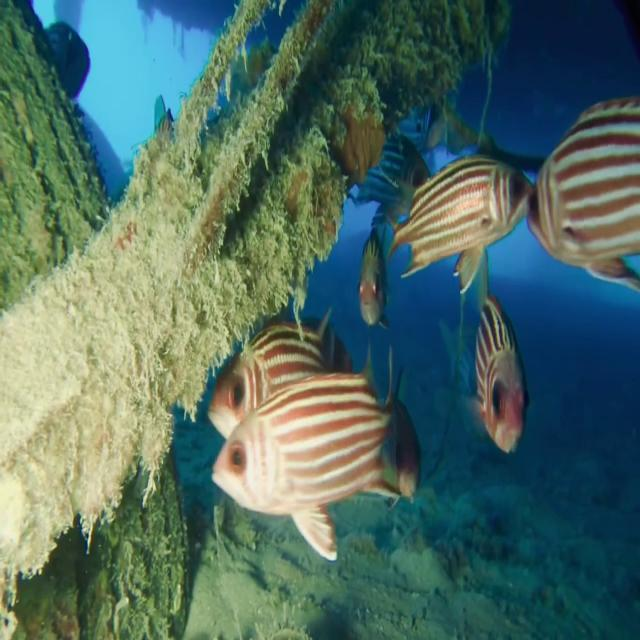Asker Baligi: (210, 335, 422, 562), (400, 125, 538, 296)
